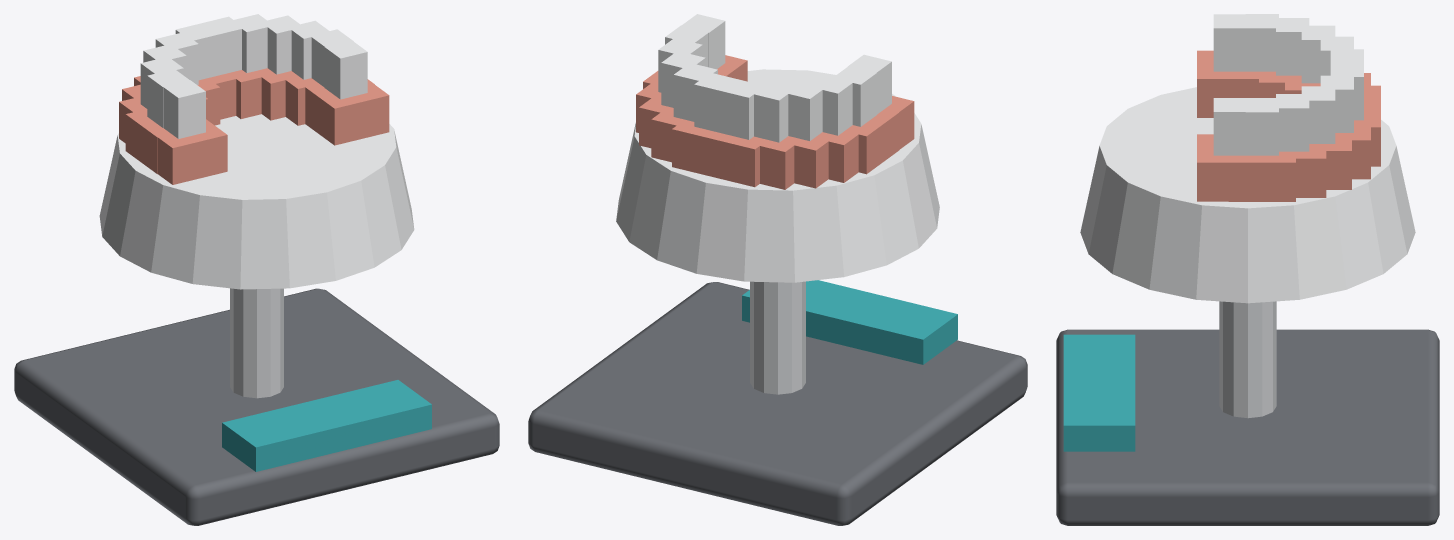
The model's file is plaster-model-on-stand.glb.
3 views of the same model, side by side, from view 1: azimuth 30°, elevation 25°; view 2: azimuth 150°, elevation 25°; view 3: azimuth 270°, elevation 25° (orthographic). The views are drawn at different scales.
Parts seen in each view (by area): view 1: plaster-model-on-stand; view 2: plaster-model-on-stand; view 3: plaster-model-on-stand.
Part boxes in pixels (x1,y1,x2,y2): plaster-model-on-stand: (14,14,499,525); plaster-model-on-stand: (528,14,1027,525); plaster-model-on-stand: (1056,14,1439,525).
Bounding box in the file's own units: 0.16 × 0.178 × 0.16.
